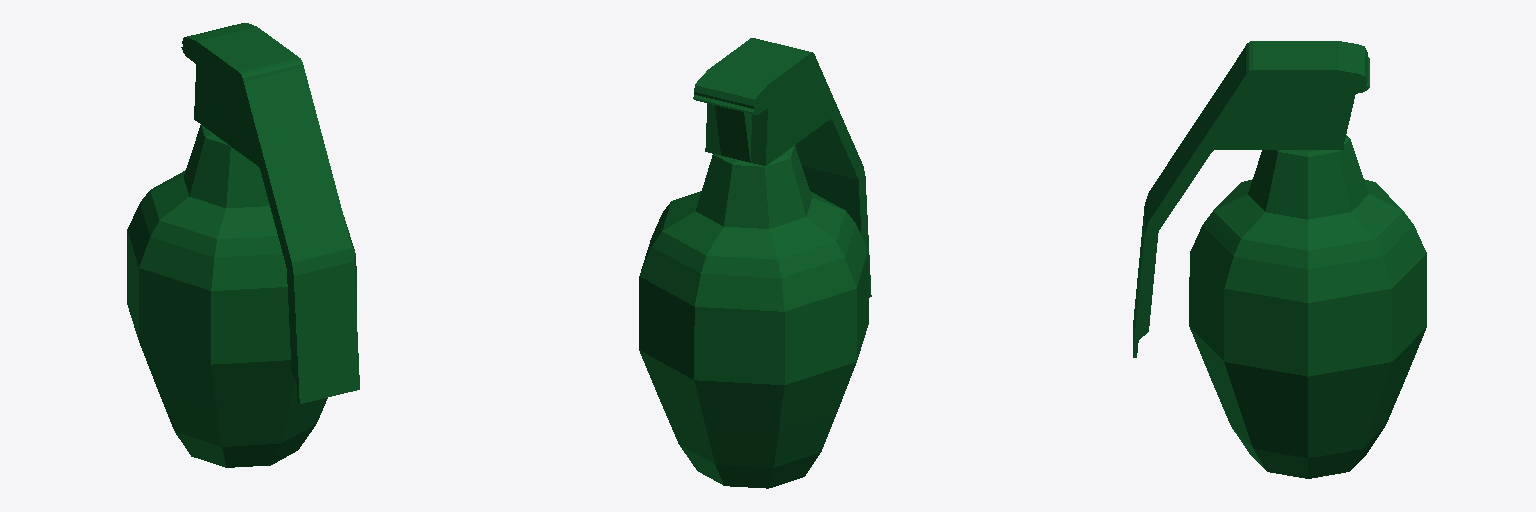
File: grenade.obj
3 renders of one model, left to right at view 1: azimuth 30°, elevation 25°; view 2: azimuth 150°, elevation 25°; view 3: azimuth 270°, elevation 25°, orthographic.
Parts seen in each view (by area): view 1: Grenade; view 2: Grenade; view 3: Grenade.
Part boxes in pixels (bbox=[...]): Grenade: bbox=[127, 23, 359, 467]; Grenade: bbox=[639, 38, 871, 488]; Grenade: bbox=[1133, 41, 1426, 478].
Bounding box in the file's own units: 0.1366 × 0.2539 × 0.1691.